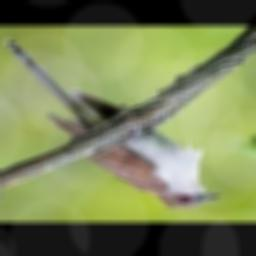Cuckoo: (3, 38, 219, 210)
